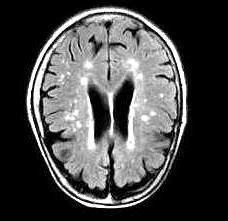Normal_Brain: (21, 1, 228, 221)
